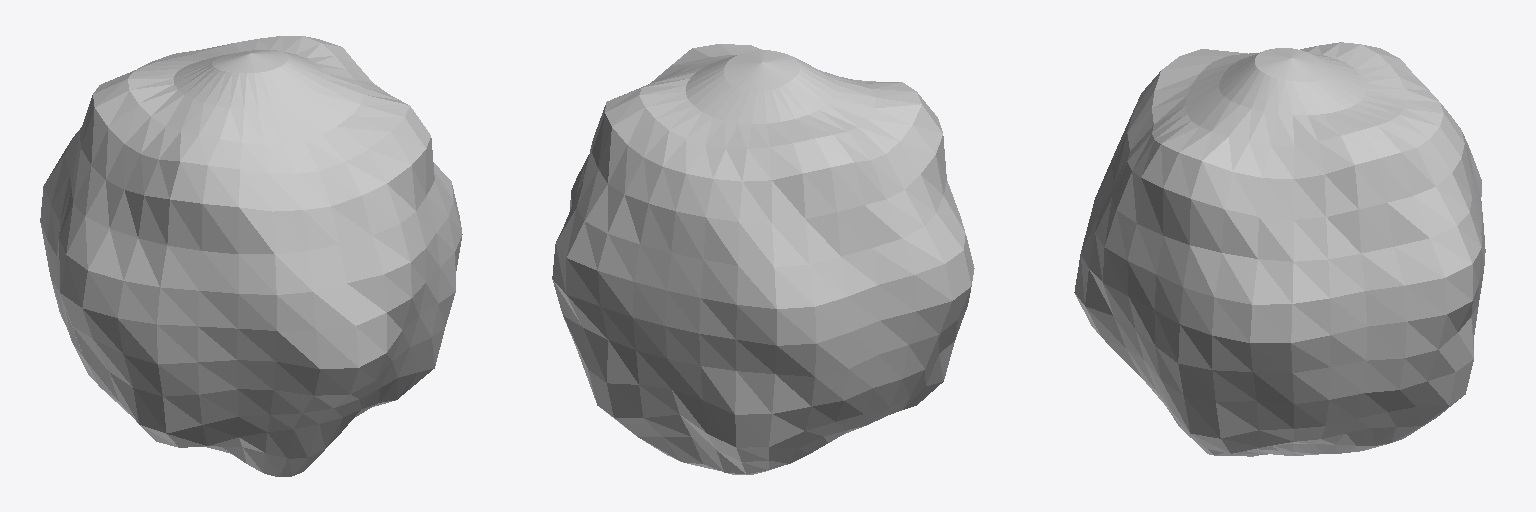
The model's file is poof.obj.
The picture shows the model from 3 angles: view 1: azimuth 30°, elevation 25°; view 2: azimuth 150°, elevation 25°; view 3: azimuth 270°, elevation 25°; orthographic projection.
Visible parts, largest first — view 1: Sphere; view 2: Sphere; view 3: Sphere.
Boxes of the visible parts, <box> form: Sphere: <box>40,36,462,476</box>; Sphere: <box>552,44,974,474</box>; Sphere: <box>1074,42,1485,456</box>.
Bounding box in the file's own units: 2.28 × 2.27 × 2.13.